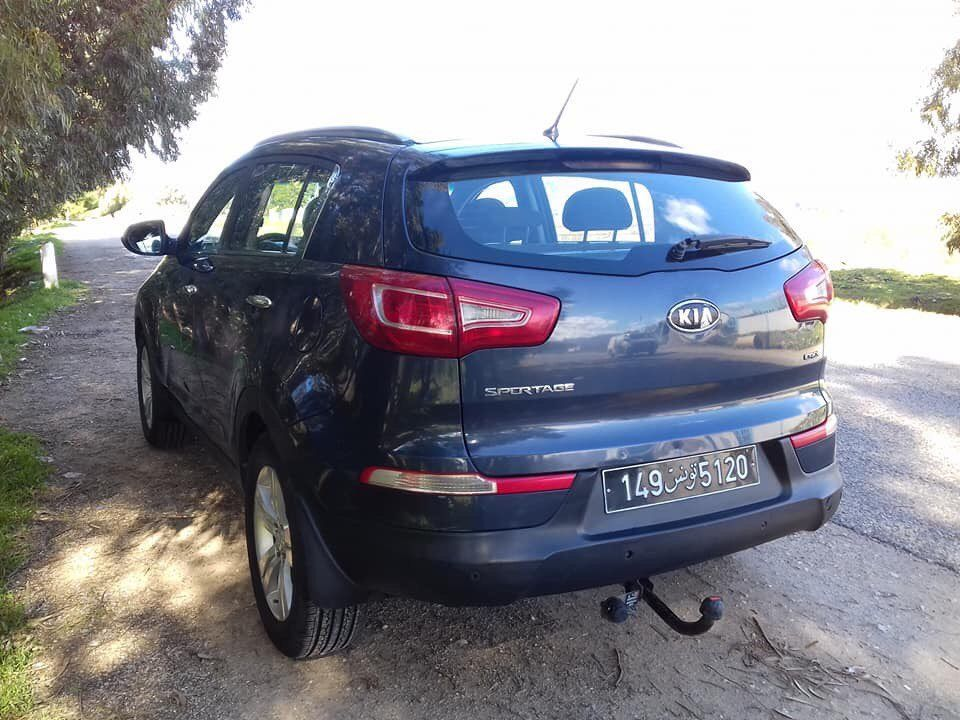LP: (599, 445, 765, 515)
